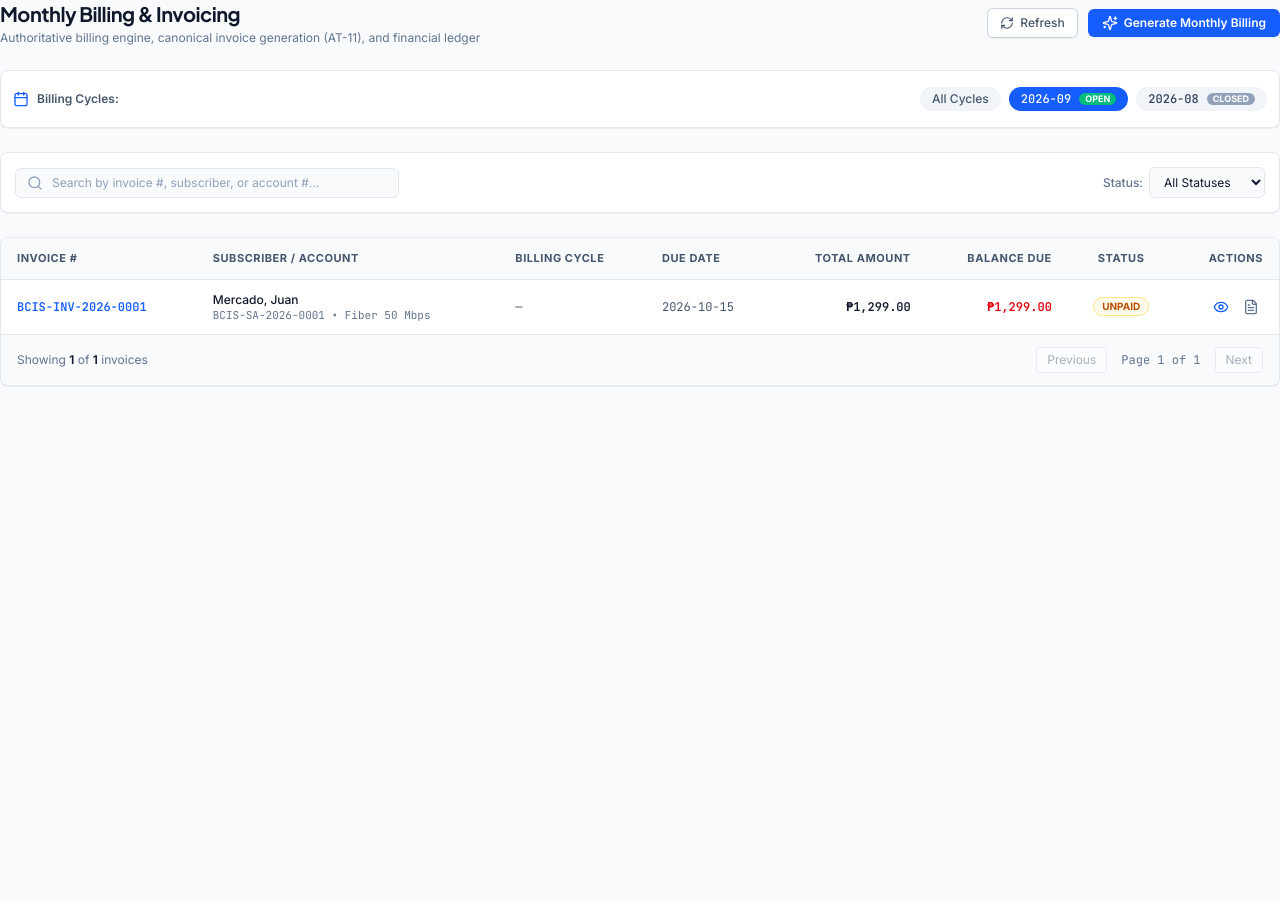
Test: BillingPage Component (Phase 3 & AT-11) › opens Billing Generation Wizard with preview metrics and AT-11 guardrail
Click the button "Generate Monthly Billing".
click(1184, 23)  # box x1=1088 y1=9 x2=1279 y2=37
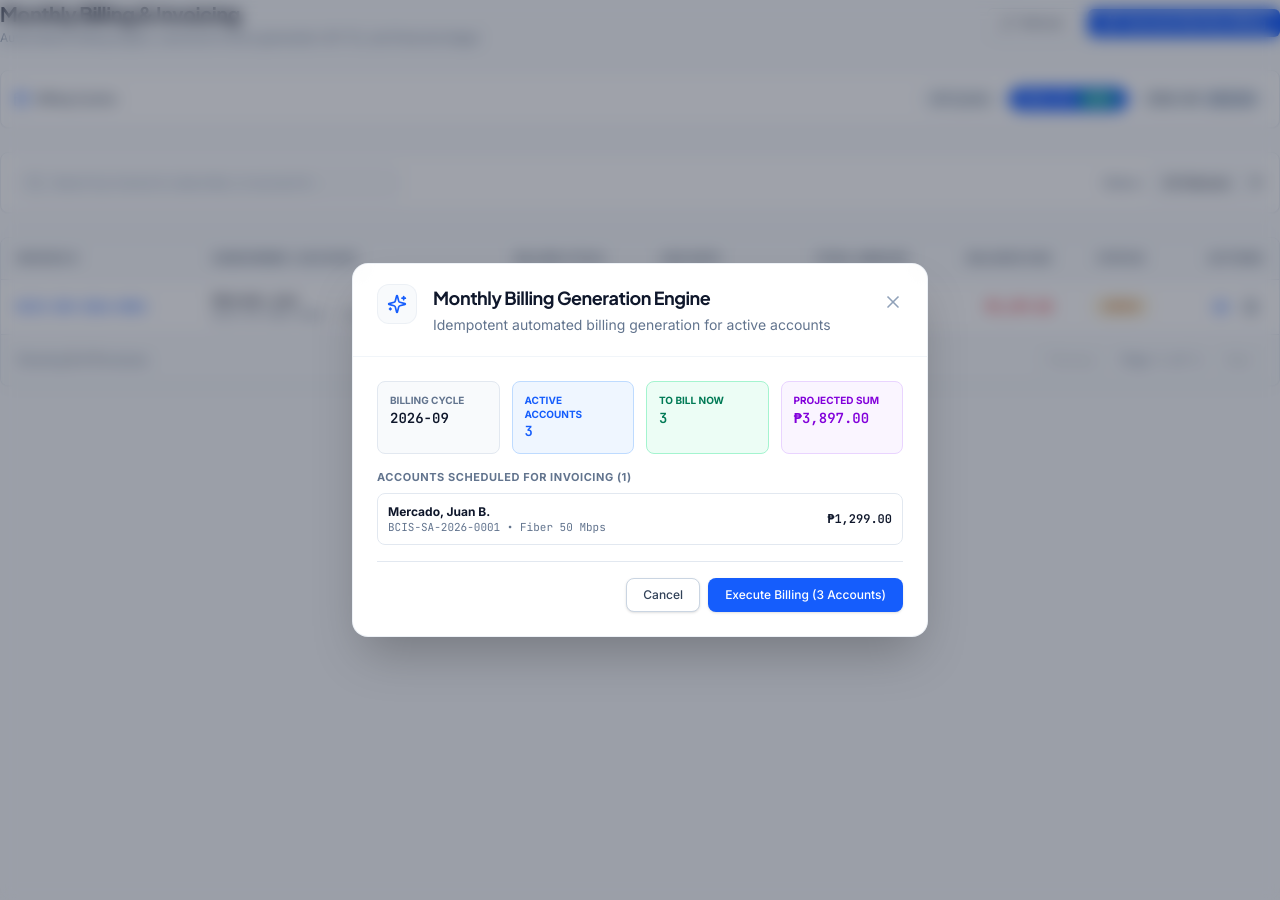
Result: the heading "Monthly Billing Generation Engine" is shown at x1=433 y1=286 x2=710 y2=309
Result: the text "To Bill Now" is shown at x1=659 y1=394 x2=724 y2=406
Result: the text "₱3,897.00" is shown at x1=794 y1=409 x2=869 y2=427
Click the button "Execute Billing (3 Accounts)".
click(806, 595)  # box x1=708 y1=578 x2=903 y2=612
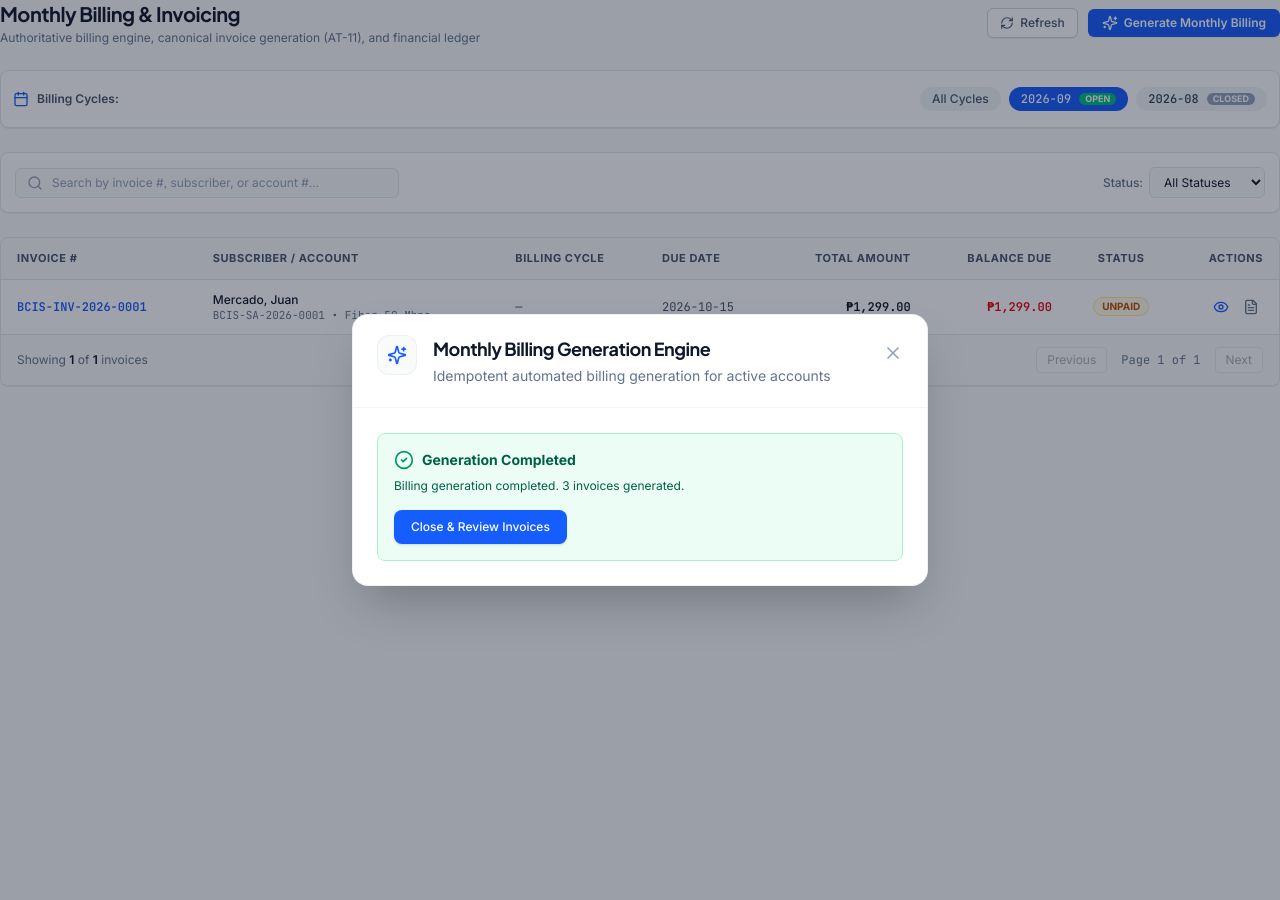
Result: the text "Generation Completed" is shown at x1=422 y1=450 x2=576 y2=470
Result: the text "Billing generation completed. 3 invoices generated." is shown at x1=394 y1=478 x2=684 y2=493
